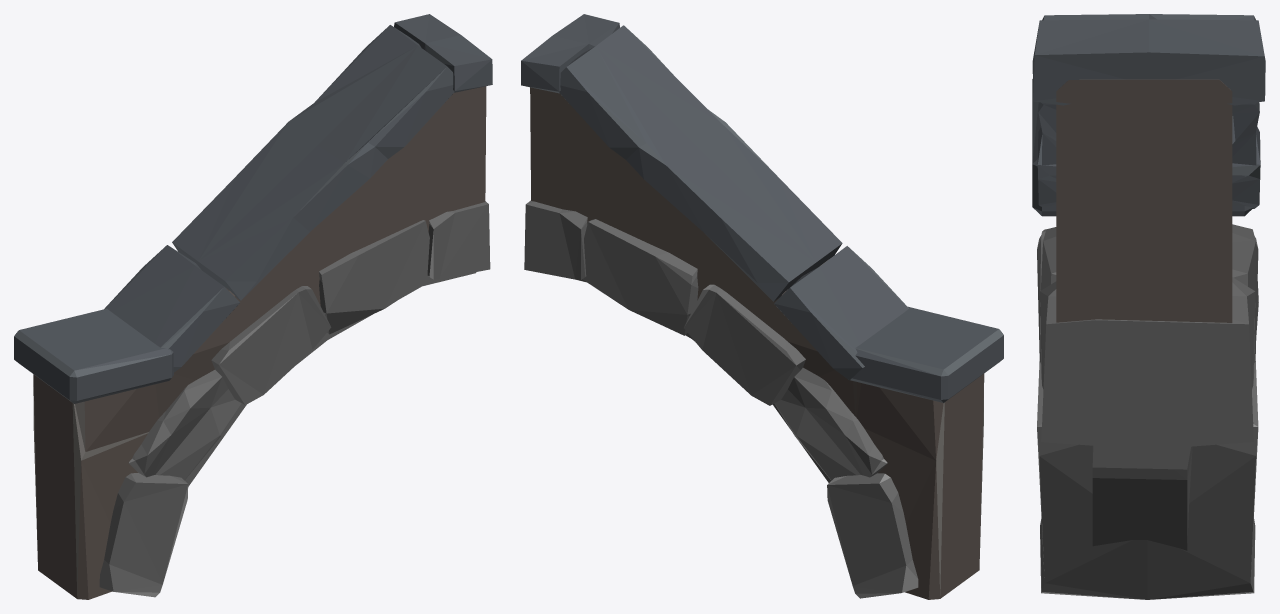
File: MCastle_ArchArm_01.FBX
The picture shows the model from 3 angles, left to right: view 1: azimuth 30°, elevation 25°; view 2: azimuth 150°, elevation 25°; view 3: azimuth 270°, elevation 25°; orthographic projection. The views are drawn at different scales.
Visible parts, largest first — view 1: MCastle_ArchArm_01_Bricks_LOD0; view 2: MCastle_ArchArm_01_Bricks_LOD0; view 3: MCastle_ArchArm_01_Bricks_LOD0.
Boxes of the visible parts, x1,y1,x2,y2 form: MCastle_ArchArm_01_Bricks_LOD0: (14, 14, 492, 599); MCastle_ArchArm_01_Bricks_LOD0: (521, 14, 1003, 599); MCastle_ArchArm_01_Bricks_LOD0: (1032, 14, 1265, 599).
Size of what is drawn, in the model's own units: 4.75 by 4.96 by 1.25.
